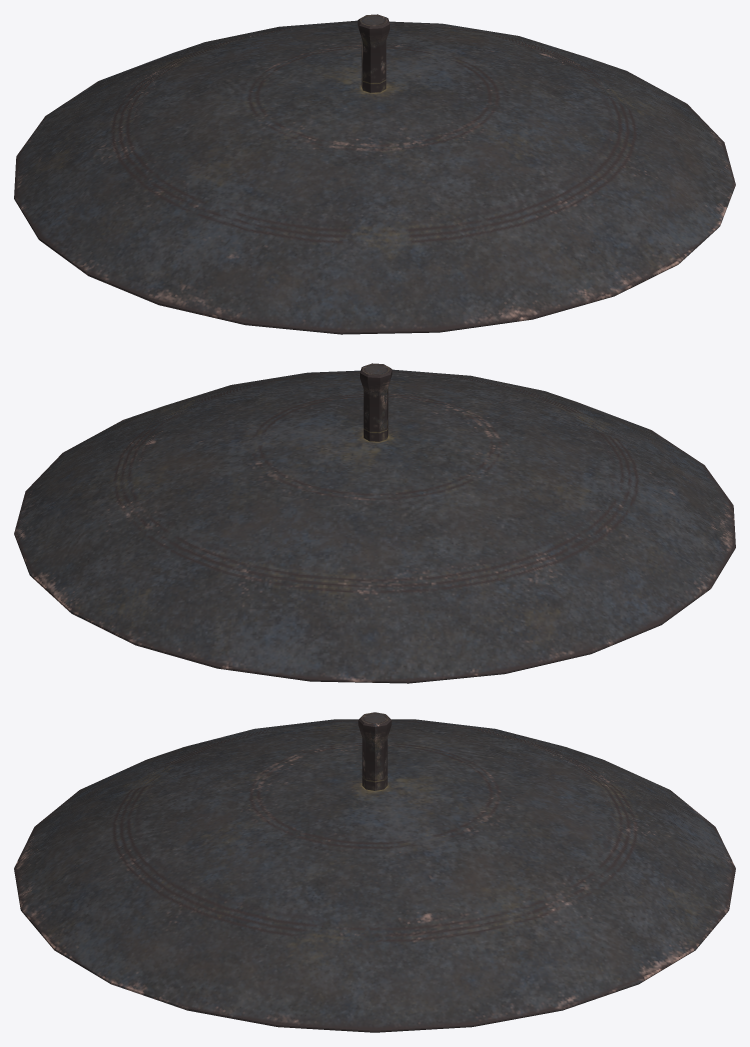
The model's file is SM_Cauldron03a.fbx.
The picture shows the model from 3 angles, top to bottom: view 1: azimuth 30°, elevation 25°; view 2: azimuth 150°, elevation 25°; view 3: azimuth 270°, elevation 25°; orthographic projection.
Visible parts, largest first — view 1: SM_Cauldron03a; view 2: SM_Cauldron03a; view 3: SM_Cauldron03a.
Part boxes in pixels (x1,y1,x2,y2): SM_Cauldron03a: (14,14,735,334); SM_Cauldron03a: (14,363,735,683); SM_Cauldron03a: (14,712,735,1032).
Bounding box in the file's own units: 47.56 × 11.79 × 47.67.
